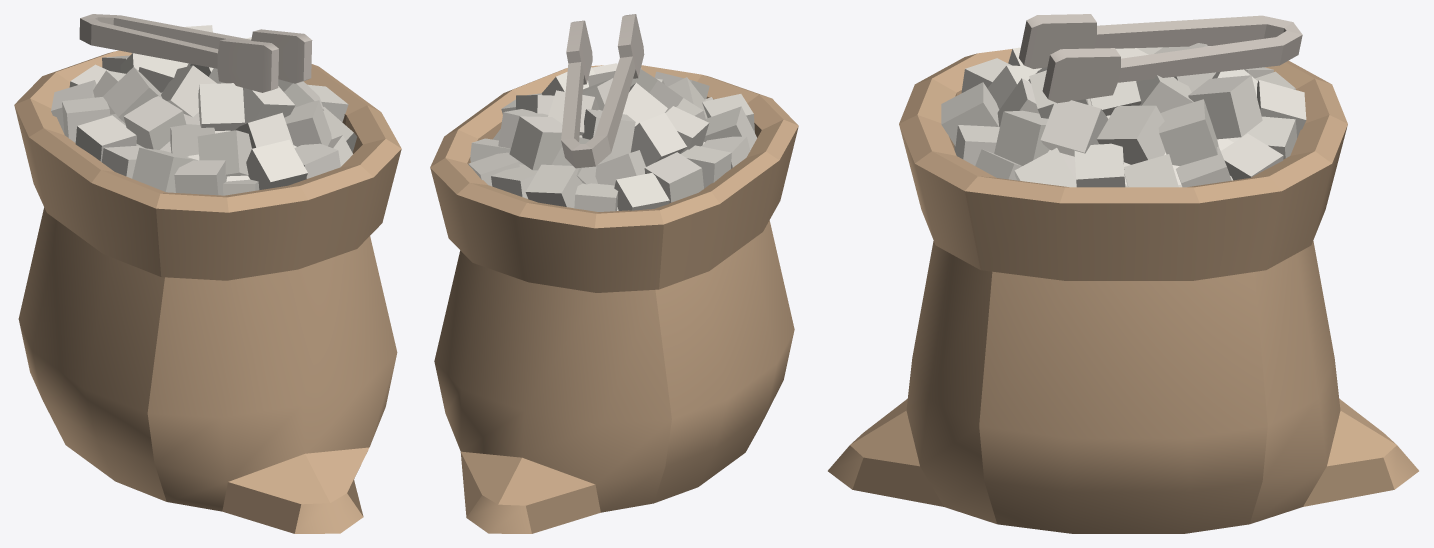
File: SM_SugarBag 1.fbx
3 views of the same model, side by side, from view 1: azimuth 30°, elevation 25°; view 2: azimuth 150°, elevation 25°; view 3: azimuth 270°, elevation 25° (orthographic). The views are drawn at different scales.
Visible parts, largest first — view 1: sugar_bag, tongs, sugar_bag_cube, sugar_bag_cube28, sugar_bag_cube30, sugar_bag_cube18, sugar_bag_cube15, sugar_bag_cube13, sugar_bag_cube16, sugar_bag_cube20, sugar_bag_cube27, sugar_bag_cube31 (+14 smaller); view 2: sugar_bag, tongs, sugar_bag_cube24, sugar_bag_cube27, sugar_bag_cube9, sugar_bag_cube12, sugar_bag_cube11, sugar_bag_cube15, sugar_bag_cube13, sugar_bag_cube10, sugar_bag_cube26, sugar_bag_cube32 (+14 smaller); view 3: sugar_bag, tongs, sugar_bag_cube24, sugar_bag_cube23, sugar_bag_cube22, sugar_bag_cube21, sugar_bag_cube20, sugar_bag_cube, sugar_bag_cube4, sugar_bag_cube7, sugar_bag_cube9, sugar_bag_cube3 (+11 smaller).
Part boxes in pixels (x1,y1,x2,y2): sugar_bag: (14, 50, 401, 533); tongs: (79, 14, 312, 92); sugar_bag_cube: (246, 139, 307, 189); sugar_bag_cube28: (123, 96, 186, 149); sugar_bag_cube30: (198, 83, 244, 130); sugar_bag_cube18: (197, 130, 251, 176); sugar_bag_cube15: (132, 147, 197, 192); sugar_bag_cube13: (75, 115, 136, 161); sugar_bag_cube16: (174, 160, 227, 195); sugar_bag_cube20: (284, 100, 331, 146); sugar_bag_cube27: (103, 67, 161, 123); sugar_bag_cube31: (161, 65, 216, 116); sugar_bag: (430, 65, 798, 533); tongs: (561, 14, 644, 168); sugar_bag_cube24: (509, 116, 562, 170); sugar_bag_cube27: (630, 113, 686, 166); sugar_bag_cube9: (525, 164, 582, 208); sugar_bag_cube12: (644, 152, 703, 203); sugar_bag_cube11: (614, 173, 669, 210); sugar_bag_cube15: (704, 106, 756, 149); sugar_bag_cube13: (681, 145, 731, 188); sugar_bag_cube10: (574, 183, 618, 211); sugar_bag_cube26: (595, 150, 645, 185); sugar_bag_cube32: (582, 109, 635, 158); sugar_bag: (828, 49, 1418, 533); tongs: (1019, 14, 1302, 103); sugar_bag_cube24: (1188, 75, 1262, 139); sugar_bag_cube23: (1158, 99, 1218, 165); sugar_bag_cube22: (1097, 105, 1165, 164); sugar_bag_cube21: (1040, 100, 1108, 156); sugar_bag_cube20: (994, 110, 1049, 165); sugar_bag_cube: (941, 82, 999, 146); sugar_bag_cube4: (1074, 143, 1125, 187); sugar_bag_cube7: (1220, 133, 1283, 180); sugar_bag_cube9: (1257, 80, 1306, 137); sugar_bag_cube3: (1014, 148, 1076, 187).
Size of the model in its own units: 0.4591 by 0.6187 by 0.7138.
